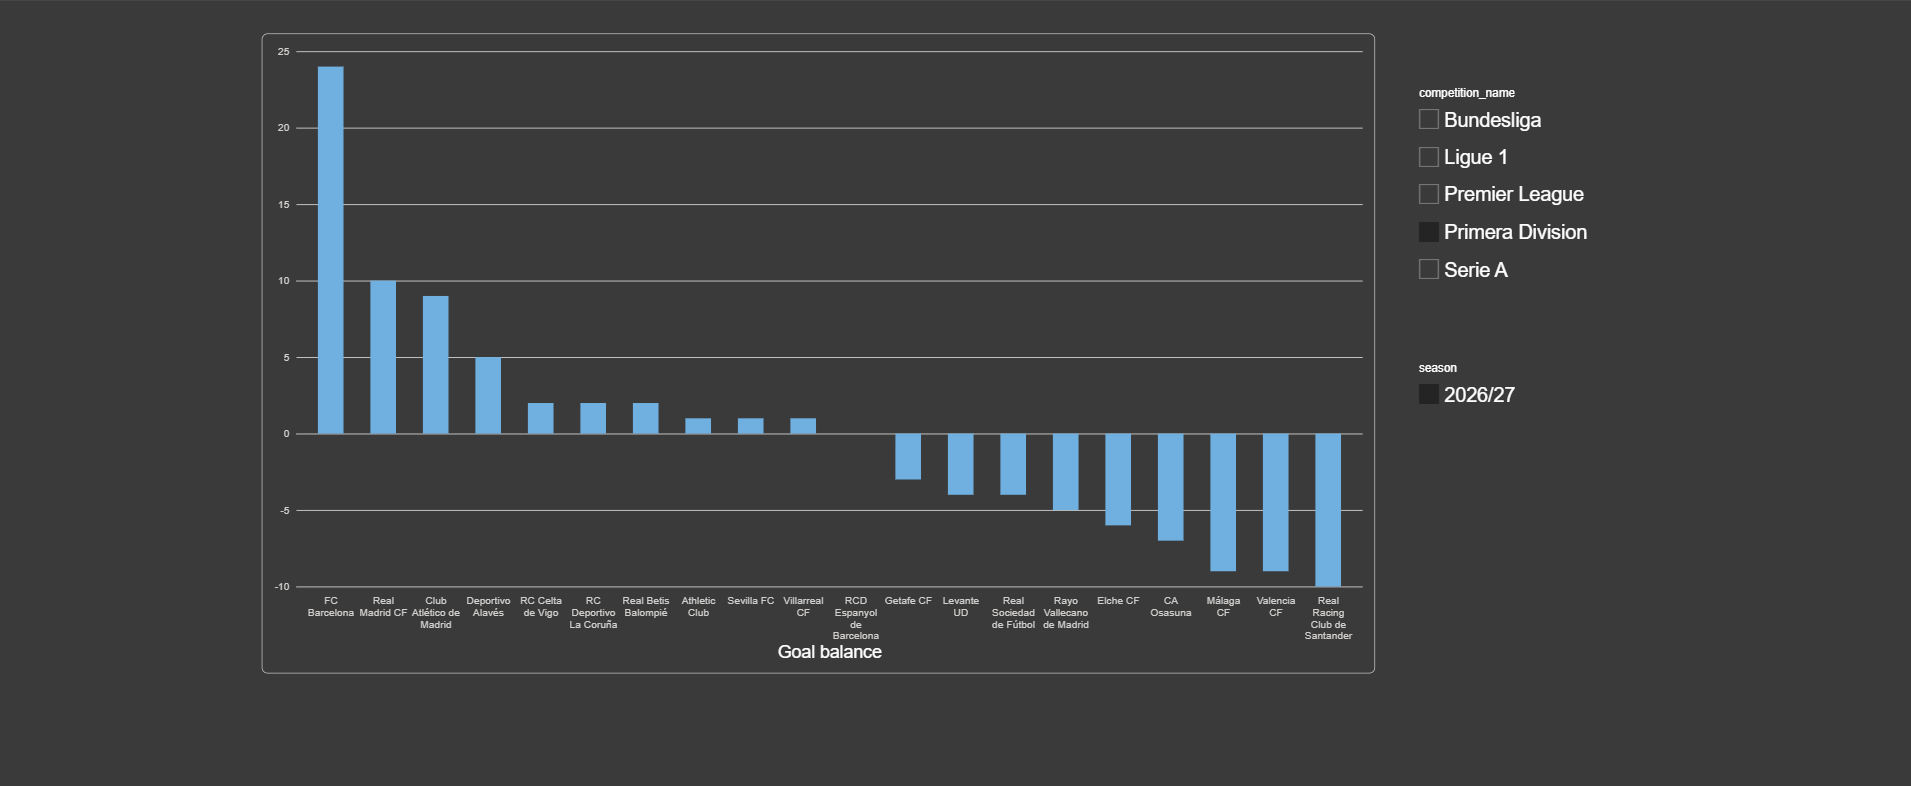

Layout of this report page (visuals, bound fields, positions):
{"tool":"powerbi","page":{"name":"Goals","canvas":[1920,1080],"ordinal":3},"visuals":[{"type":"clusteredColumnChart","fields":{"Category":["team_standings.team_name"],"Y":["Sum(team_standings.goal_difference)"]},"box":[18.1,43.4,1514.7,870.4],"z":0},{"type":"slicer","fields":{"Values":["team_standings.competition_name"]},"box":[1585.3,115.8,314.9,282.3],"z":1000},{"type":"slicer","fields":{"Values":["team_standings.season"]},"box":[1584.9,489.9,257.3,164.7],"z":1001}]}

Visuals, with their boxes on the page's 1920x1080 design canvas (x1, y1, x2, y2). These are canvas units, not pixel positions in the 1911x786 screenshot, which may show the page scaled, cropped or inside an application window:
clusteredColumnChart - team_standings.team_name x Sum(team_standings.goal_difference): 18 43 1533 914
slicer - team_standings.competition_name: 1585 116 1900 398
slicer - team_standings.season: 1585 490 1842 655
